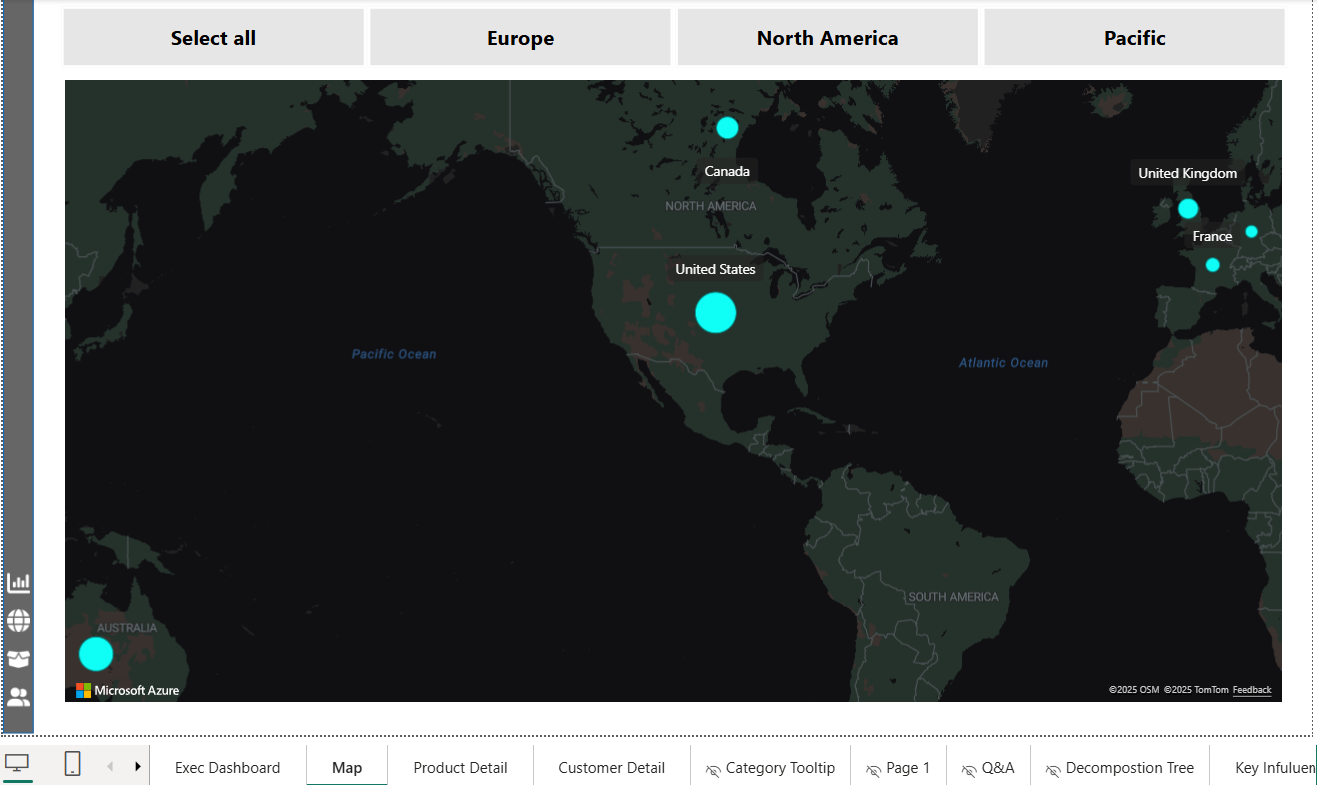

The dashboard page shown, as its layout file describes it:
{"tool":"powerbi","page":{"name":"Map","canvas":[1280,720],"ordinal":1},"visuals":[{"type":"shape","title":"Left Nav. Background","box":[0,0,30,718.6],"z":0},{"type":"actionButton","box":[0,583.7,30.6,50.1],"z":0,"group":"g1"},{"type":"actionButton","box":[0,546.6,30.6,50.1],"z":1000,"group":"g1"},{"type":"azureMap","fields":{"Category":["Territory Lookup.Country"],"Size":["Measure Table.Total Orders"]},"box":[56.3,74.6,1199.6,617.5],"z":1000},{"type":"slicer","fields":{"Values":["Territory Lookup.Continent"]},"box":[30.6,0,1249.7,74.6],"z":2000},{"type":"actionButton","box":[0,620.8,30.6,50.1],"z":2000,"group":"g1"},{"type":"actionButton","box":[0,657.9,30.6,50.1],"z":3000,"group":"g1"},{"type":"group","id":"g1","title":"Nav Buttons","box":[0,546.6,30.6,161.4],"z":3000}]}

Visuals, with their boxes in screenshot pixels (x1, y1, x2, y2):
"Left Nav. Background" shape: Rect(0, 0, 30, 729)
actionButton: Rect(0, 592, 31, 643)
actionButton: Rect(0, 555, 31, 605)
azureMap - Territory Lookup.Country x Measure Table.Total Orders: Rect(57, 76, 1274, 702)
slicer - Territory Lookup.Continent: Rect(31, 0, 1299, 76)
actionButton: Rect(0, 630, 31, 681)
actionButton: Rect(0, 667, 31, 718)
"Nav Buttons" group: Rect(0, 555, 31, 718)
